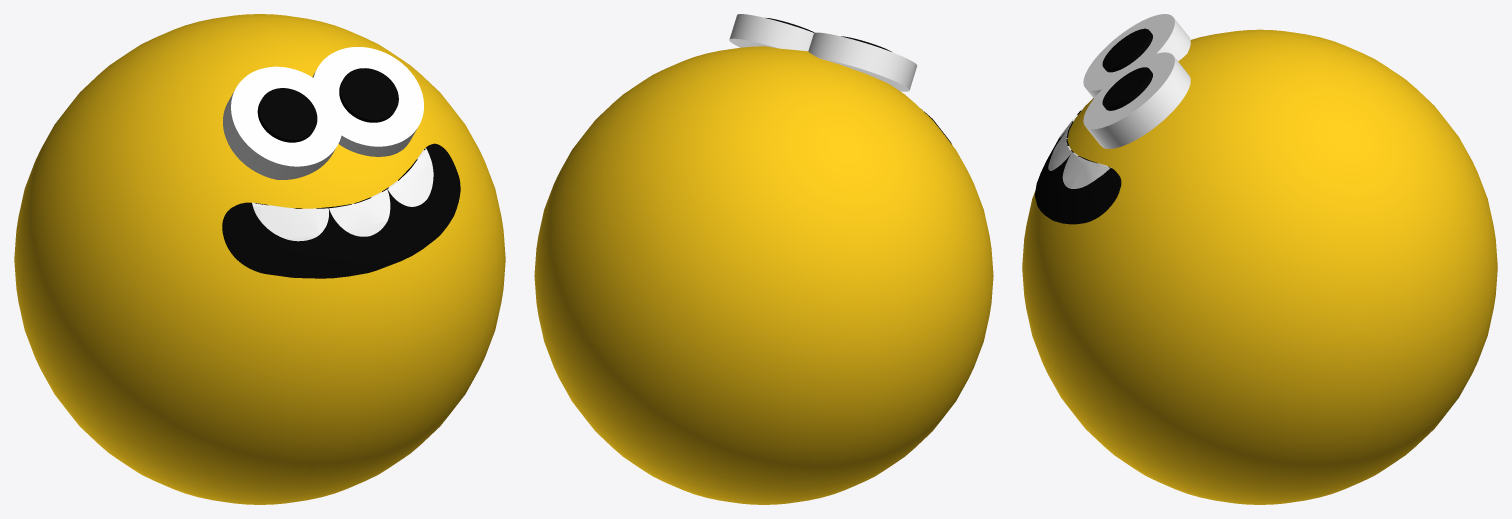
3 renders of one model, left to right at view 1: azimuth 30°, elevation 25°; view 2: azimuth 150°, elevation 25°; view 3: azimuth 270°, elevation 25°, orthographic. The views are drawn at different scales.
Parts seen in each view (by area): view 1: Sphere, O1, mouth, teeth, eye_1; view 2: Sphere, O1; view 3: Sphere, O1, mouth, eye_1, teeth.
Boxes of the visible parts, x1=… form: Sphere: x1=14, y1=14, x2=505, y2=504; O1: x1=223, y1=47, x2=423, y2=179; mouth: x1=222, y1=143, x2=460, y2=278; teeth: x1=252, y1=148, x2=433, y2=241; eye_1: x1=257, y1=68, x2=398, y2=142; Sphere: x1=534, y1=46, x2=993, y2=504; O1: x1=729, y1=14, x2=917, y2=91; Sphere: x1=1022, y1=29, x2=1497, y2=504; O1: x1=1083, y1=14, x2=1190, y2=148; mouth: x1=1035, y1=98, x2=1121, y2=224; eye_1: x1=1102, y1=28, x2=1152, y2=110; teeth: x1=1048, y1=98, x2=1110, y2=188.
Bounding box in the file's own units: 176 × 180 × 176.
